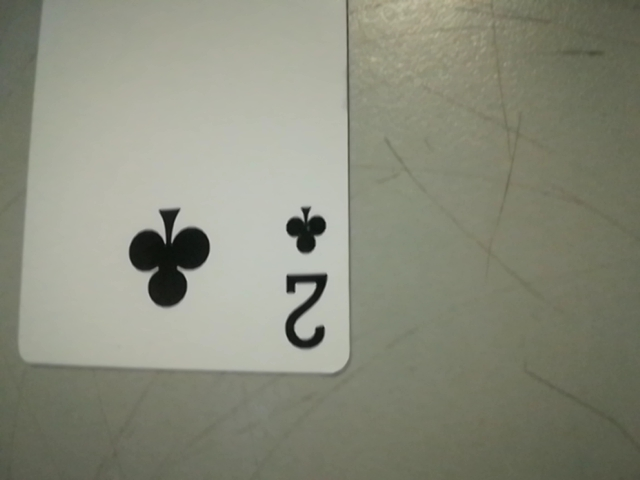mh 2: (271, 190, 344, 366)
